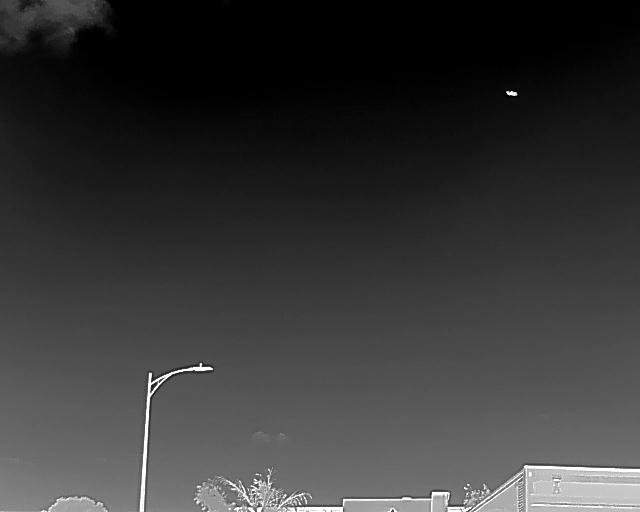fpv-drone: (505, 90, 518, 97)
